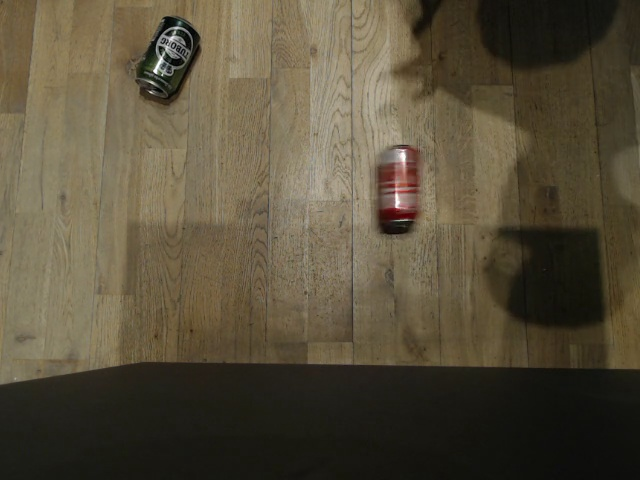beer: (132, 13, 203, 102)
cola: (371, 141, 425, 237)
